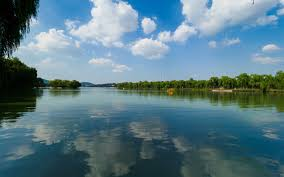forest: (117, 76, 284, 96)
lake: (12, 93, 283, 176)
sky: (38, 1, 283, 80)
tree: (1, 1, 40, 85)
